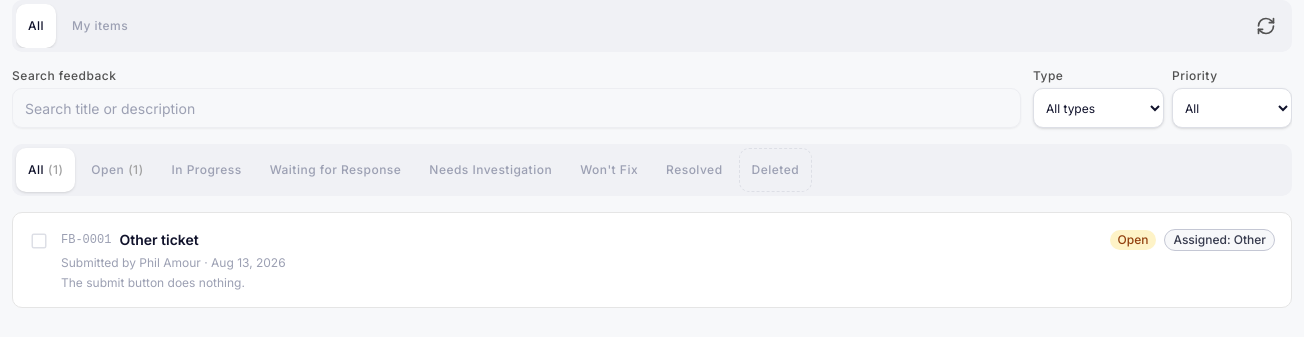
Scenario: FeedbackInbox — scope and filters › shows empty message when My items has no assignments for current user
The width and height of the screenshot is (1304, 337).
Expected: the heading "Other ticket" is shown, [119,231,199,248]
Click the tab "My items".
click(100, 26)  # box [60,4,140,48]
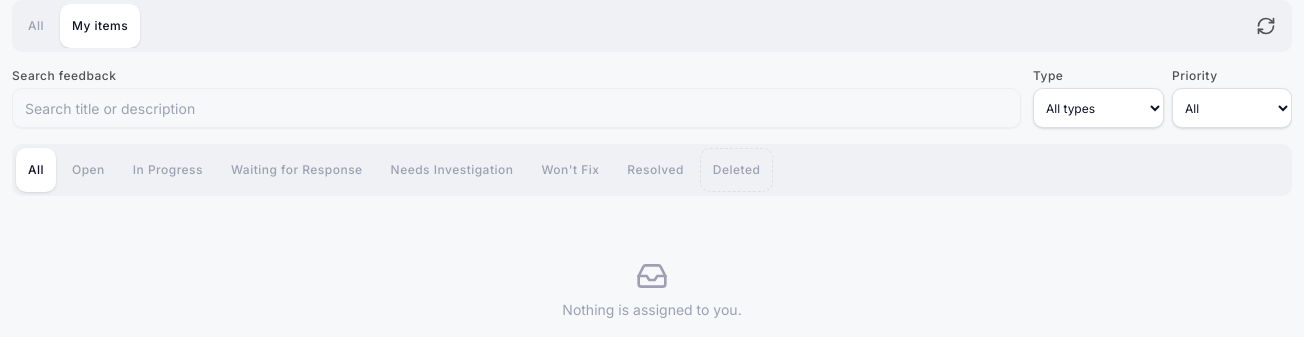
Expected: the text "Nothing is assigned to you." is shown, [562,300,742,320]
